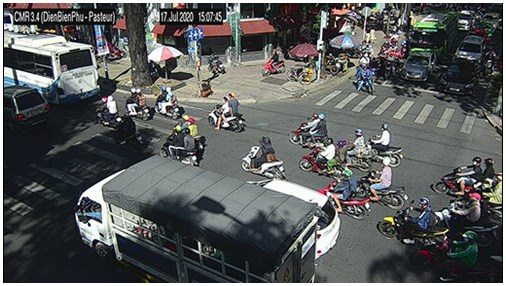xe_buyt: (4, 30, 100, 105), (409, 13, 456, 56)
xe_hoi: (252, 178, 341, 253), (5, 86, 50, 131), (439, 58, 479, 97), (401, 50, 436, 85), (457, 36, 484, 59), (458, 10, 473, 31)
xe_may: (408, 229, 502, 283), (429, 149, 502, 198), (434, 192, 500, 246), (377, 197, 447, 246), (356, 158, 408, 210), (316, 175, 368, 219), (241, 135, 284, 180), (365, 122, 403, 168), (298, 140, 346, 175), (159, 126, 198, 167), (208, 93, 245, 132), (290, 112, 328, 145), (114, 114, 145, 149), (346, 128, 371, 171), (154, 85, 181, 120), (126, 88, 151, 120), (96, 95, 120, 127), (261, 49, 285, 76), (384, 52, 395, 79), (484, 51, 495, 77), (359, 52, 370, 71)
xe_tai: (75, 154, 318, 281)
